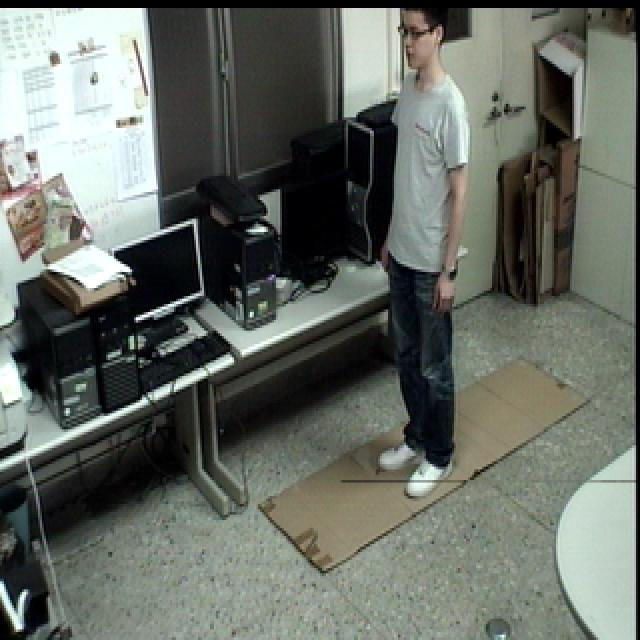stand: (374, 6, 475, 504)
